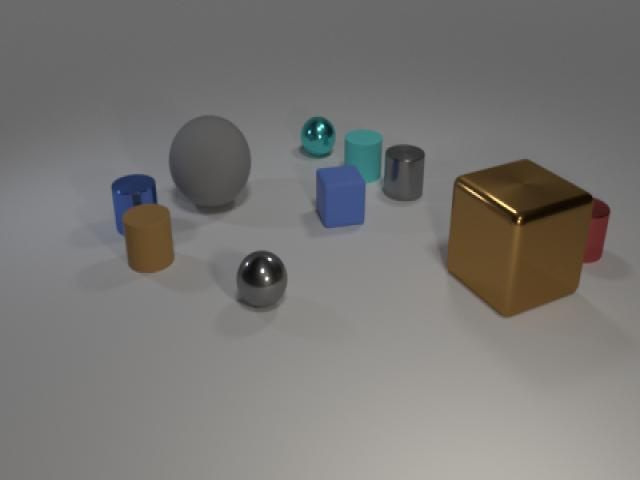cylinder: (120, 198, 177, 274), (106, 168, 161, 238), (382, 138, 428, 208), (579, 189, 618, 270), (342, 125, 384, 184)
round ball: (164, 112, 259, 217), (226, 245, 294, 311), (297, 108, 337, 159)
